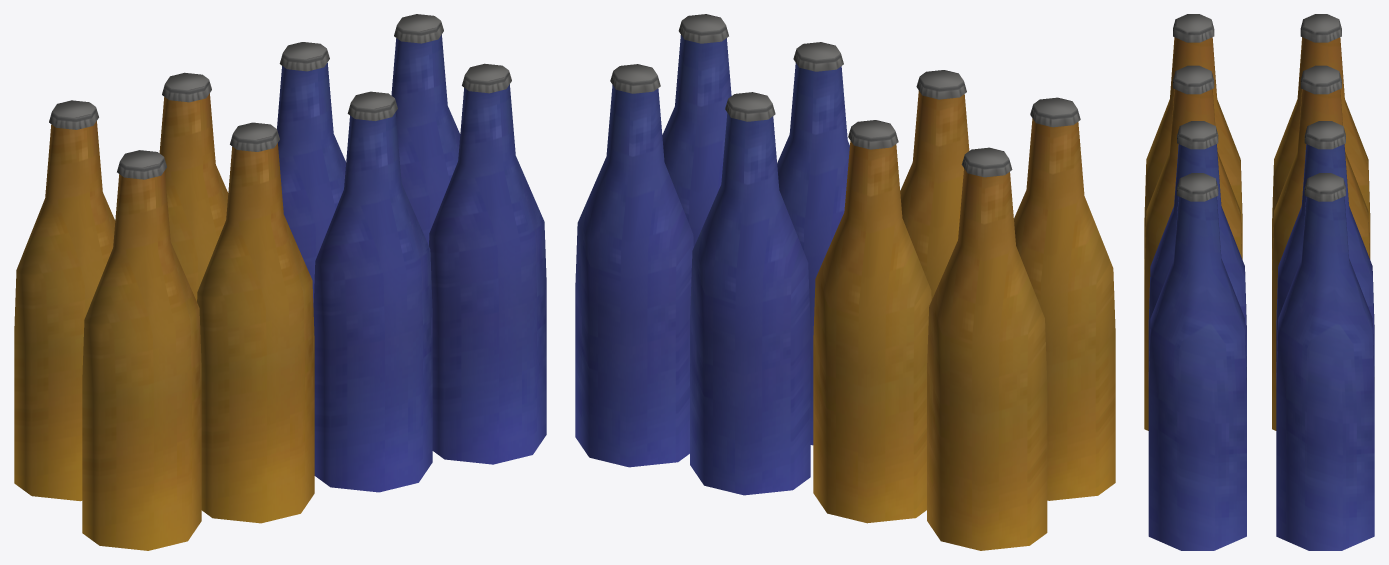
File: drink01_set1.fbx
3 views of the same model, side by side, from view 1: azimuth 30°, elevation 25°; view 2: azimuth 150°, elevation 25°; view 3: azimuth 270°, elevation 25° (orthographic). The views are drawn at different scales.
Visible parts, largest first — view 1: drink01_set1; view 2: drink01_set1; view 3: drink01_set1.
Part boxes in pixels (x1,y1,x2,y2): drink01_set1: (14, 14, 546, 550); drink01_set1: (575, 14, 1115, 550); drink01_set1: (1144, 14, 1374, 550).
Bounding box in the file's own units: 33.2 × 25.98 × 15.67.
